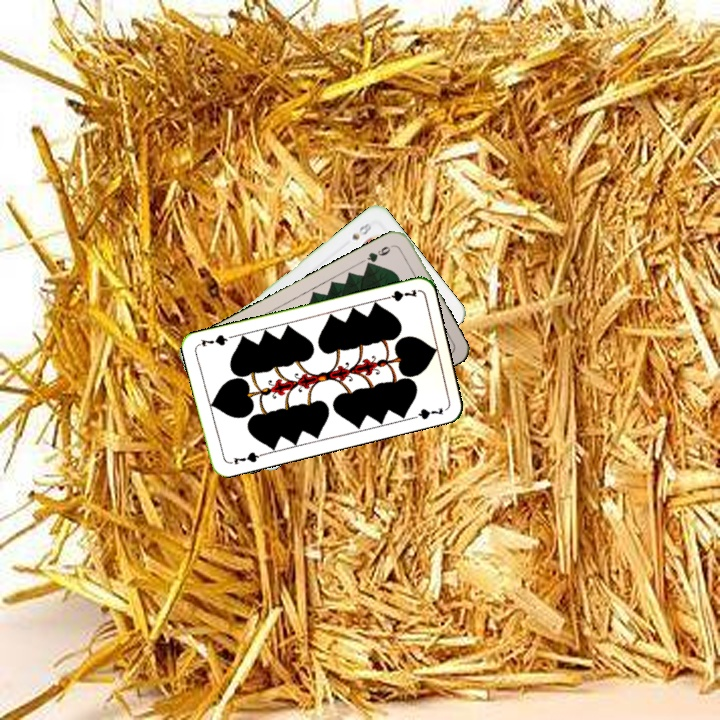G7: (379, 285, 419, 304), (229, 448, 265, 467)
G9: (362, 241, 397, 270)
S8: (347, 219, 375, 243)
